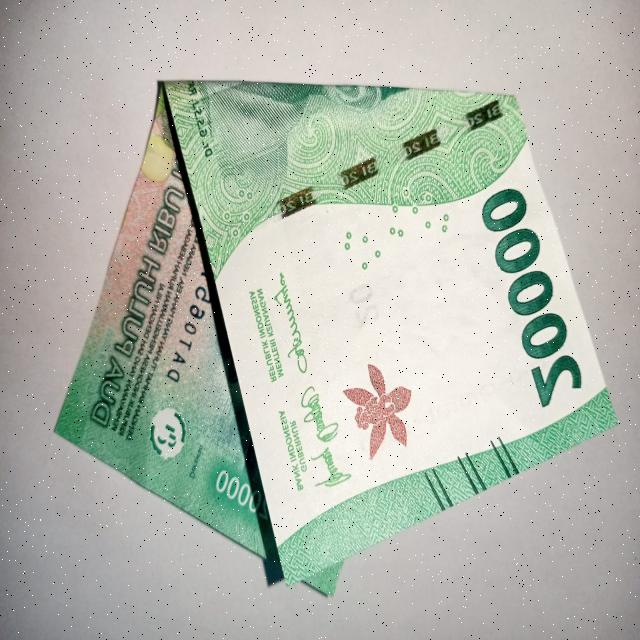20K: (47, 72, 621, 600)
